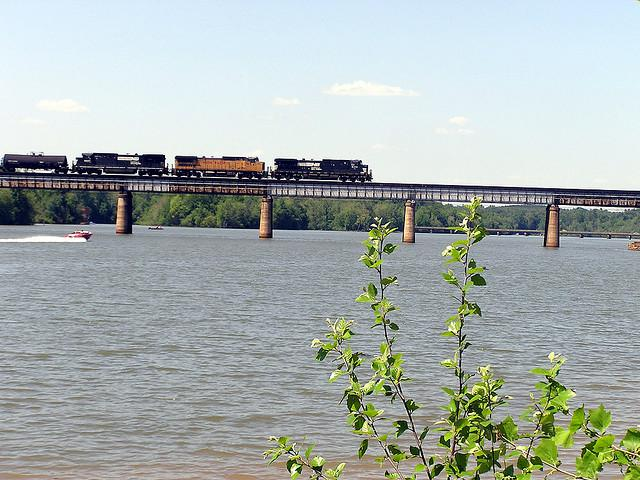Train: (2, 154, 372, 183)
